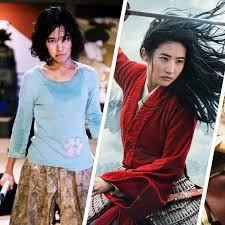asian_female: (143, 30, 198, 96)
